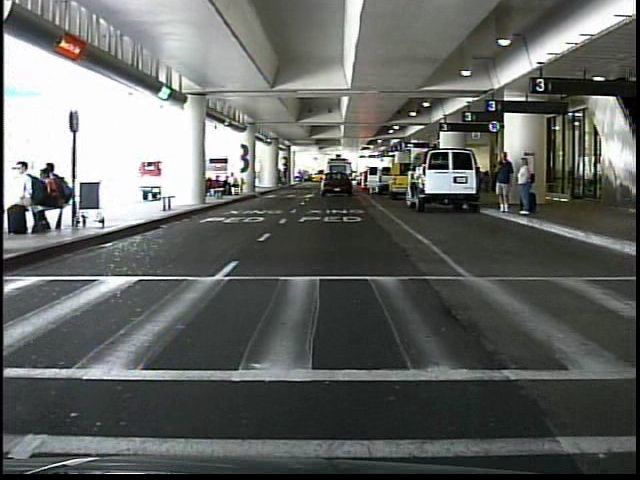person: (492, 147, 514, 217), (515, 154, 536, 222), (329, 170, 339, 193)
